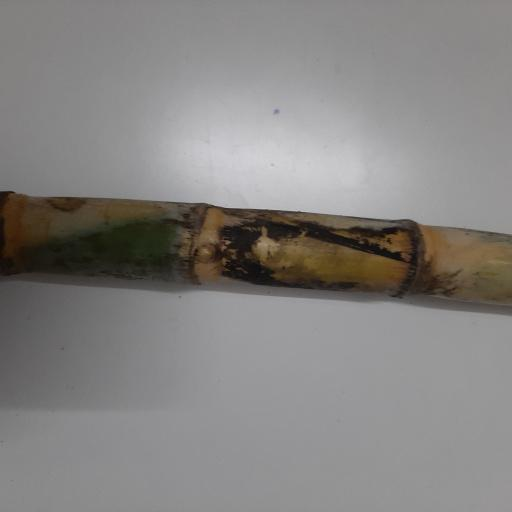Bud: (191, 243, 221, 264)
